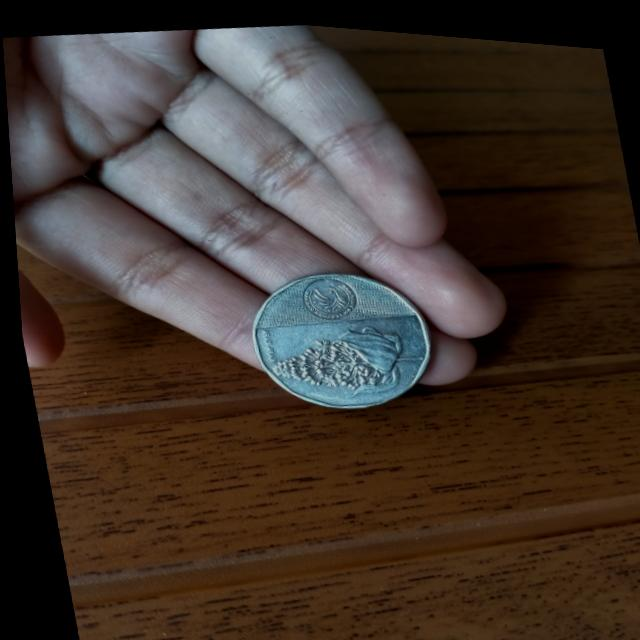10_New_Back: (260, 309, 428, 408)
